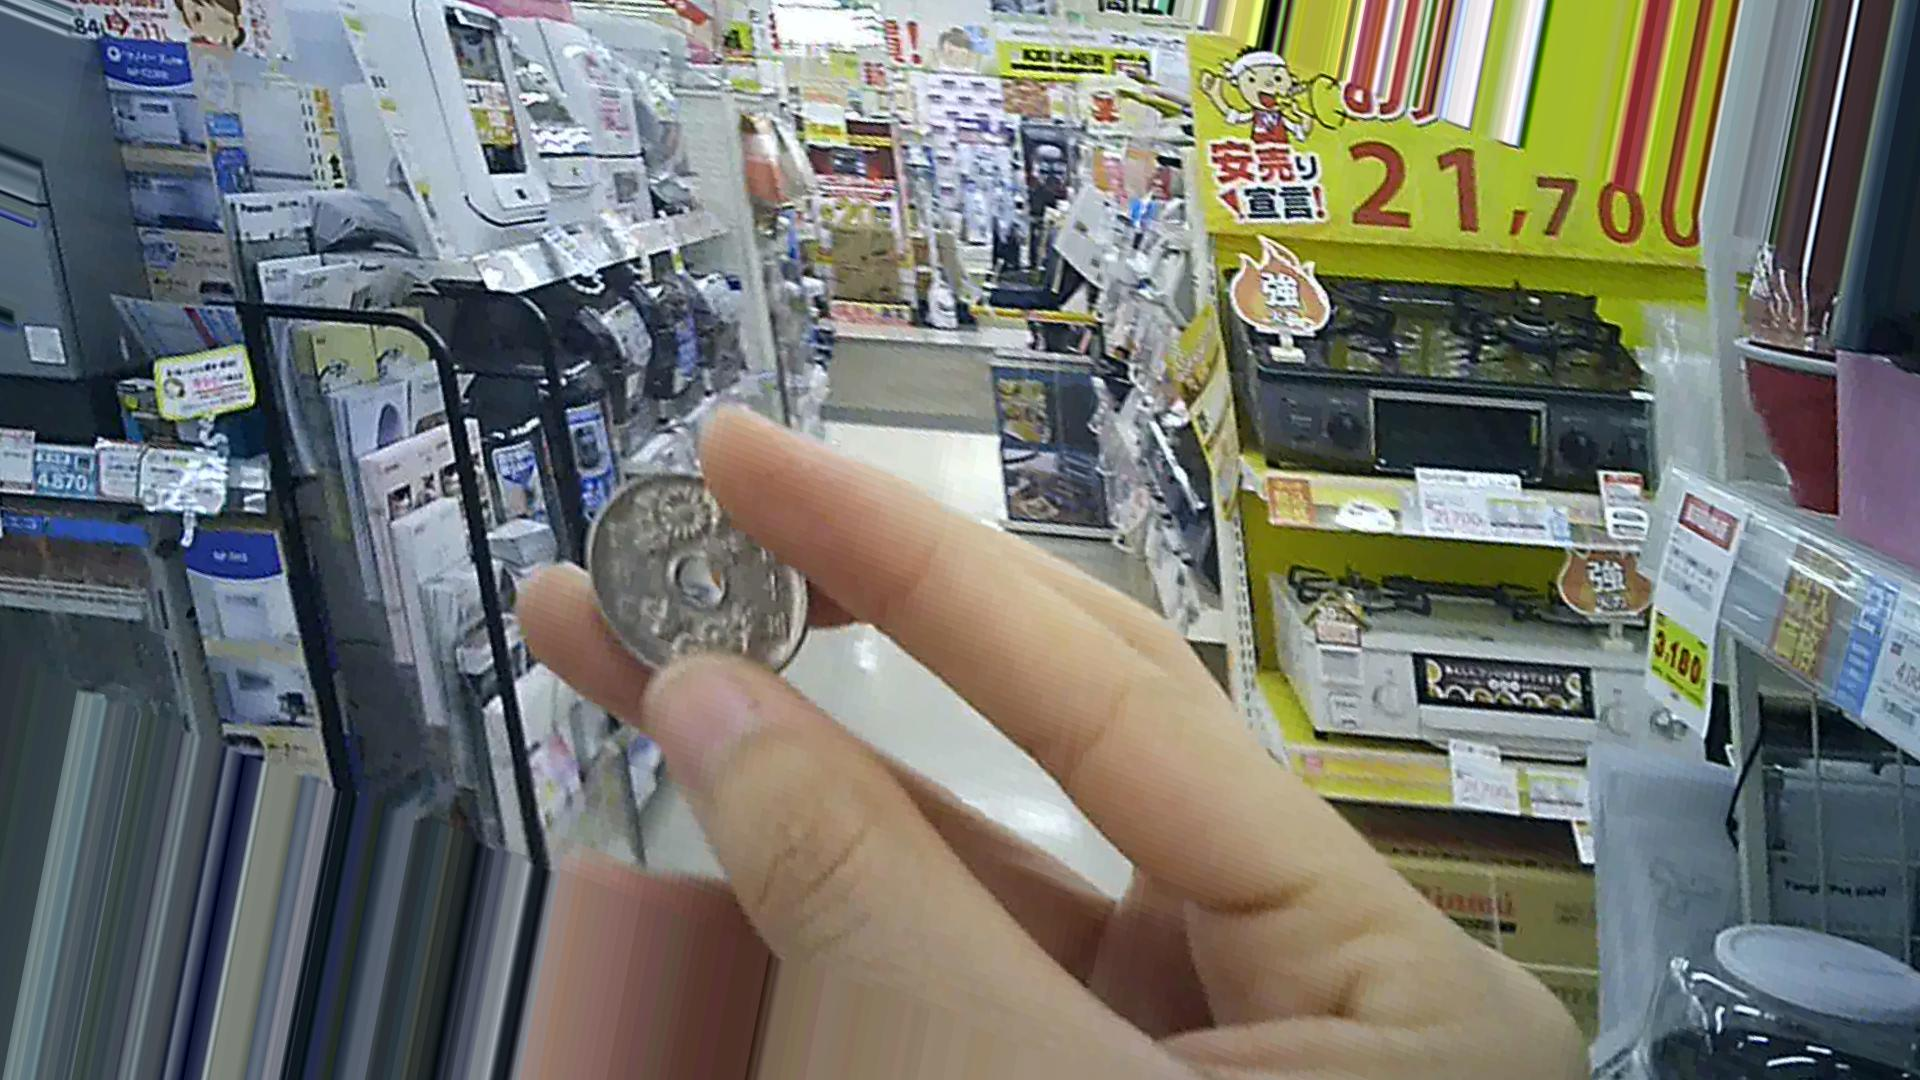50 Yen: (576, 458, 820, 712)
